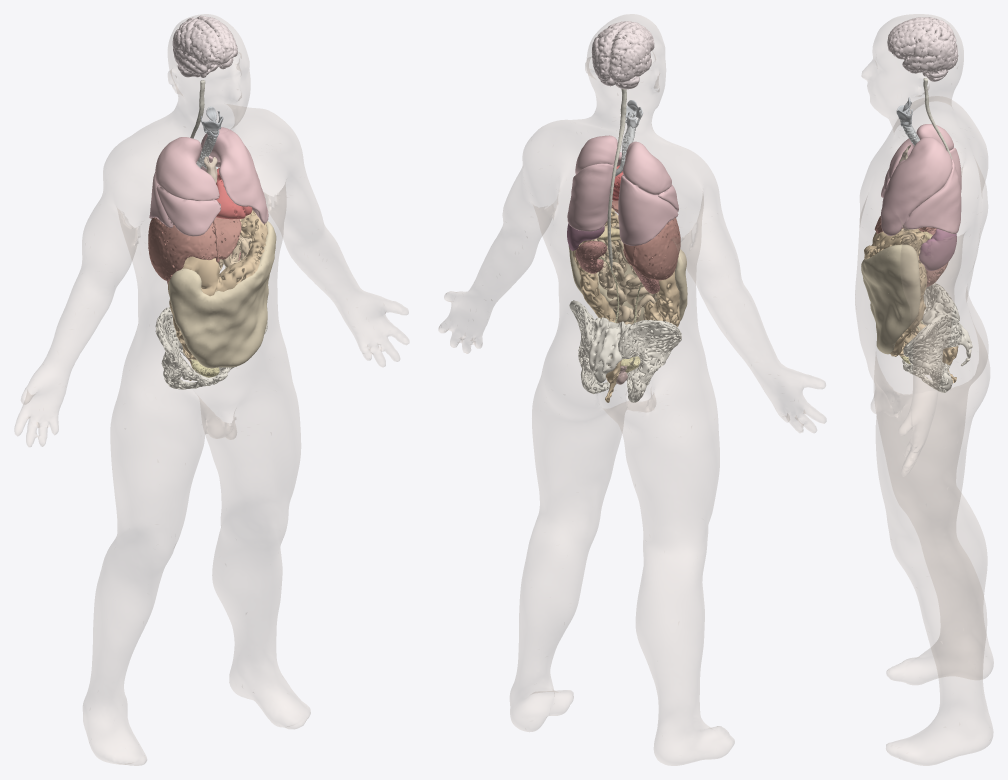
File: anatomy.glb
The picture shows the model from 3 angles, left to right: view 1: azimuth 30°, elevation 25°; view 2: azimuth 150°, elevation 25°; view 3: azimuth 270°, elevation 25°; orthographic projection. The views are drawn at different scales.
Visible parts, largest first — view 1: skin, lung, omentum, liver, brain, large intestine, pelvis, heart; view 2: skin, lung, pelvis, brain, large intestine, small intestine, liver, omentum, spinal cord, left kidney; view 3: skin, lung, omentum, pelvis, brain, large intestine, spleen, spinal cord, larynx.
Boxes of the visible parts, bbox=[...] form: skin: bbox=[14, 14, 409, 765]; lung: bbox=[149, 127, 268, 236]; omentum: bbox=[169, 221, 276, 368]; liver: bbox=[148, 217, 241, 280]; brain: bbox=[172, 15, 237, 77]; large intestine: bbox=[168, 210, 267, 380]; pelvis: bbox=[155, 307, 267, 389]; heart: bbox=[216, 168, 252, 219]; skin: bbox=[438, 14, 826, 765]; lung: bbox=[567, 135, 678, 245]; pelvis: bbox=[569, 300, 681, 402]; brain: bbox=[591, 21, 654, 89]; large intestine: bbox=[572, 208, 680, 402]; small intestine: bbox=[592, 224, 656, 324]; liver: bbox=[611, 200, 680, 280]; omentum: bbox=[568, 246, 687, 322]; spinal cord: bbox=[607, 88, 626, 272]; left kidney: bbox=[575, 241, 606, 273]; skin: bbox=[855, 14, 993, 765]; lung: bbox=[881, 124, 961, 235]; omentum: bbox=[861, 244, 920, 354]; pelvis: bbox=[902, 283, 972, 392]; brain: bbox=[887, 17, 958, 81]; large intestine: bbox=[864, 228, 958, 383]; spleen: bbox=[919, 228, 956, 270]; spinal cord: bbox=[923, 78, 952, 159]; larynx: bbox=[896, 97, 912, 127].
Size of the model in its own units: 1.04 by 1.82 by 0.3252.
